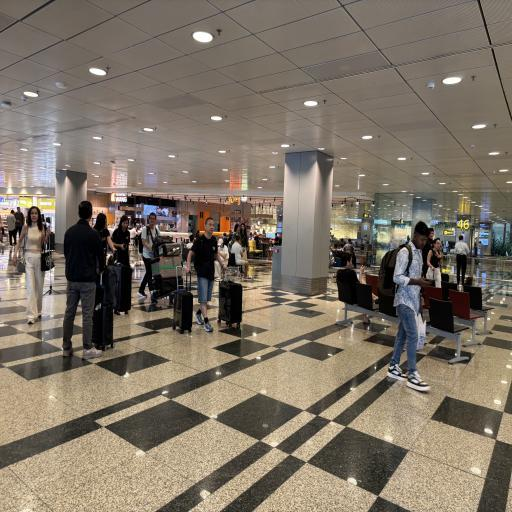person_right: (374, 214, 434, 400)
person_with_luggage_right: (193, 212, 244, 337)
